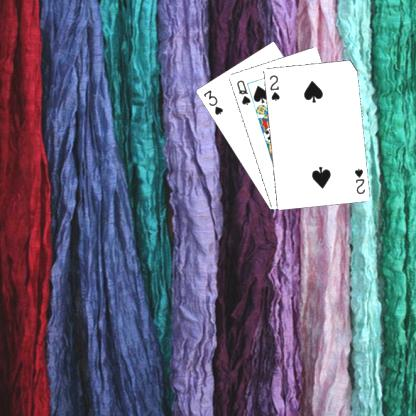2S: (266, 72, 281, 102), (352, 166, 366, 196)
3S: (200, 87, 224, 116)
QS: (234, 77, 252, 107)
